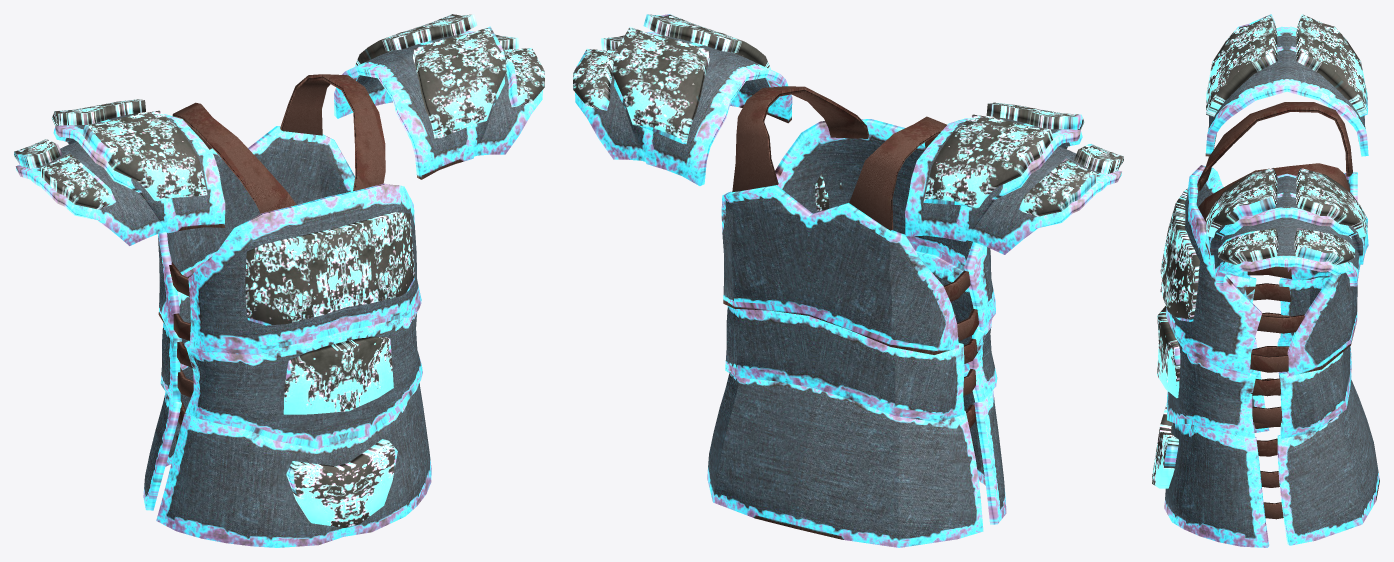
File: holy_chestplate.glb
3 renders of one model, left to right at view 1: azimuth 30°, elevation 25°; view 2: azimuth 150°, elevation 25°; view 3: azimuth 270°, elevation 25°, orthographic. The views are drawn at different scales.
Parts seen in each view (by area): view 1: holy_chestplate_src.004; view 2: holy_chestplate_src.004; view 3: holy_chestplate_src.004.
Boxes of the visible parts, box(x1,y1,x2,y2) form: holy_chestplate_src.004: box(14, 14, 544, 547); holy_chestplate_src.004: box(573, 14, 1123, 547); holy_chestplate_src.004: box(1152, 14, 1379, 547).
Size of the model in its own units: 0.5524 by 0.4526 by 0.2391.
Materials: 1 (1 with a texture image).
